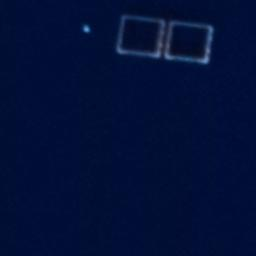square_solid: (111, 11, 172, 62), (160, 17, 217, 68)
